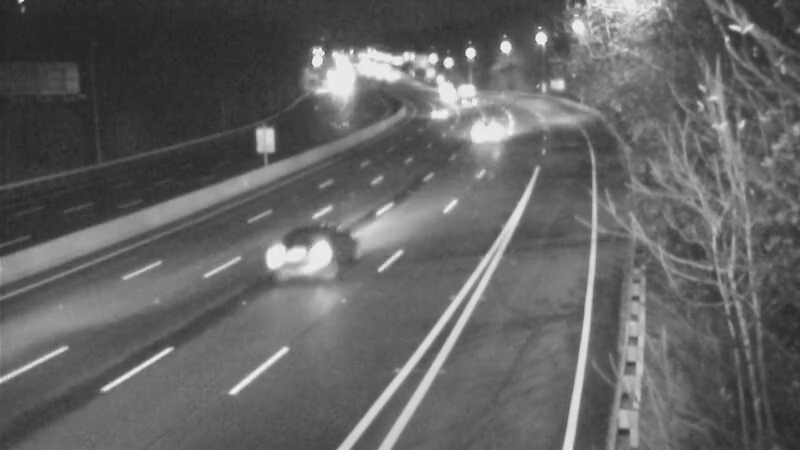vehicle: (259, 213, 339, 293), (439, 60, 489, 110), (408, 88, 458, 138), (455, 115, 505, 165)
